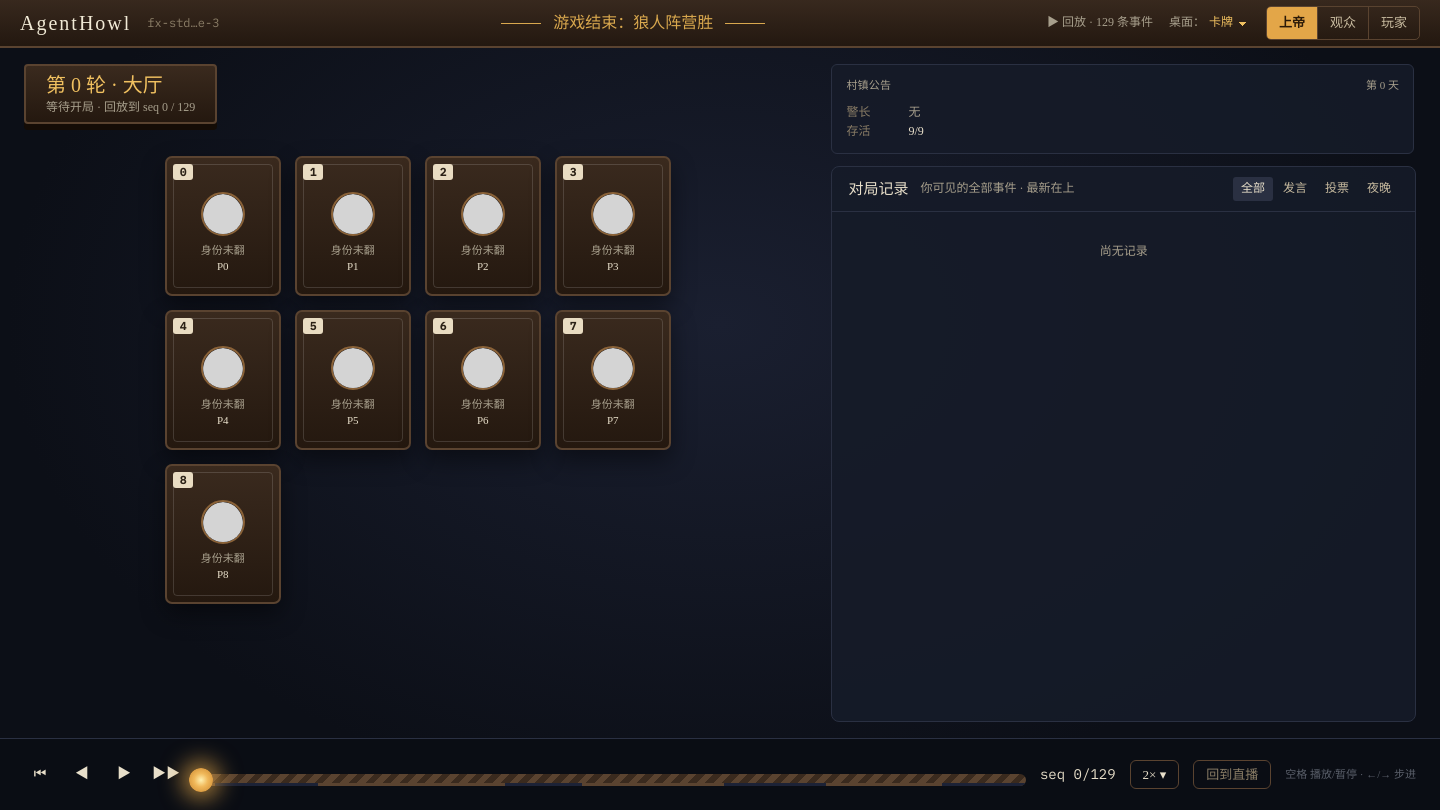
GamePage 桌面皮肤（规格 §7） › 偏好 cards 时桌子区渲染 CardBoard，切回 round 渲染圆桌；座位契约不变
Expected: the element with test id "card-board" is shown, [165,136,671,604]
Step 1. Select "圆桌" in the dropdown named "桌面皮肤" → (1228, 23), box [1207,11,1250,35]
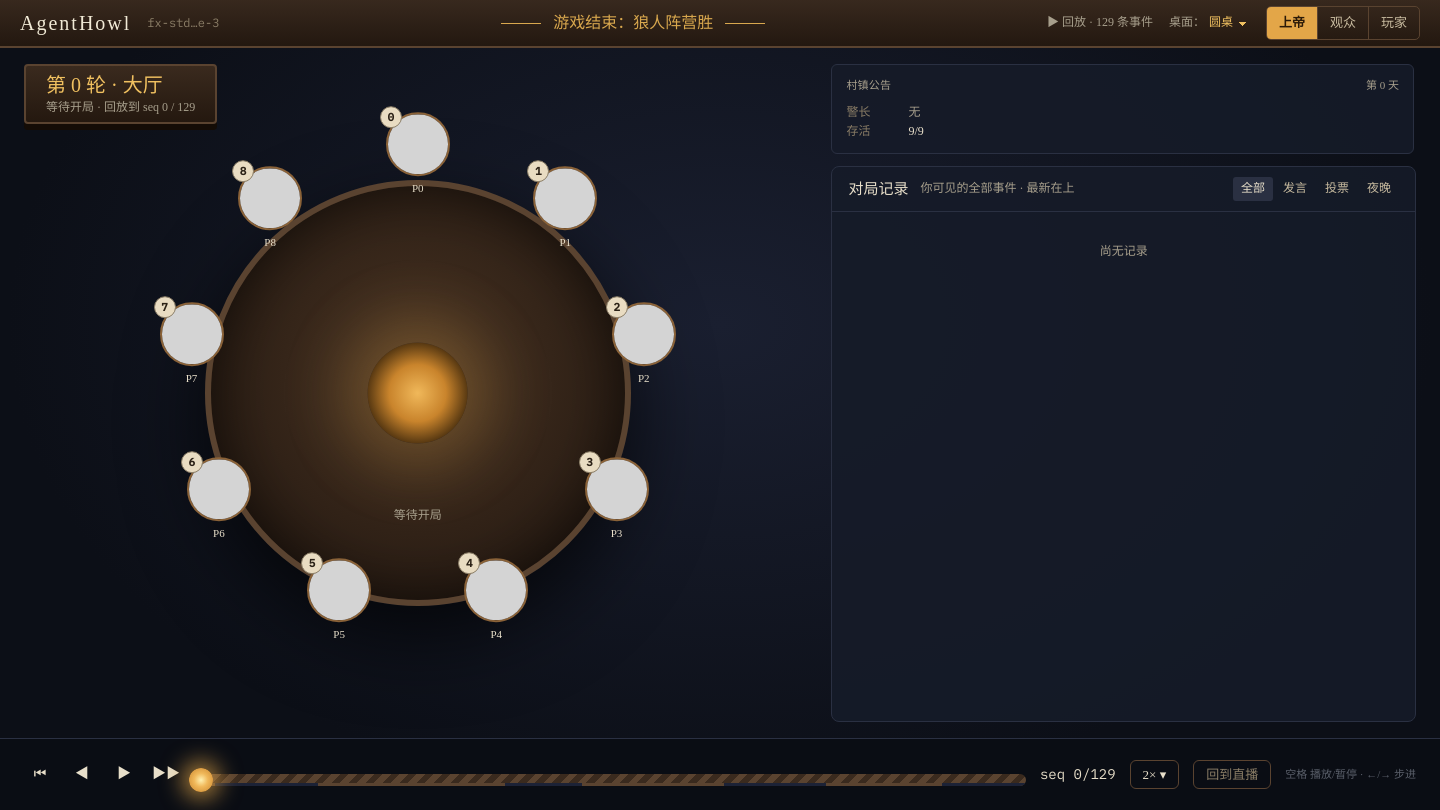
Now the element with test id "card-board" is gone
